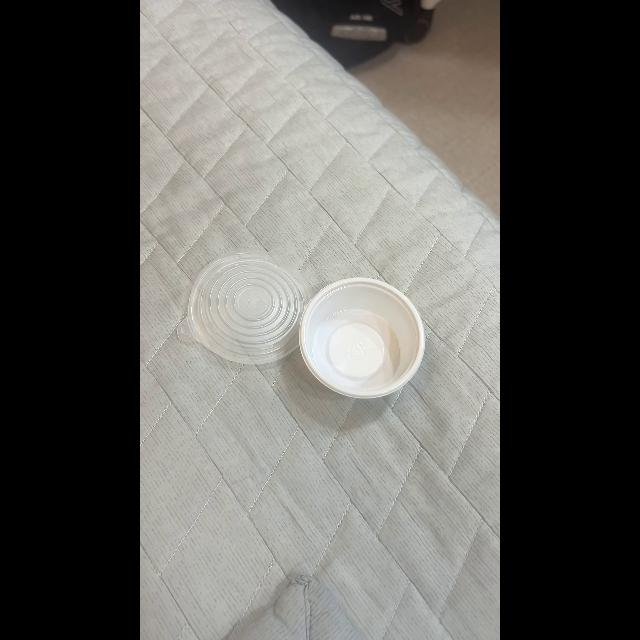clean: (308, 264, 426, 396), (184, 253, 308, 369)
